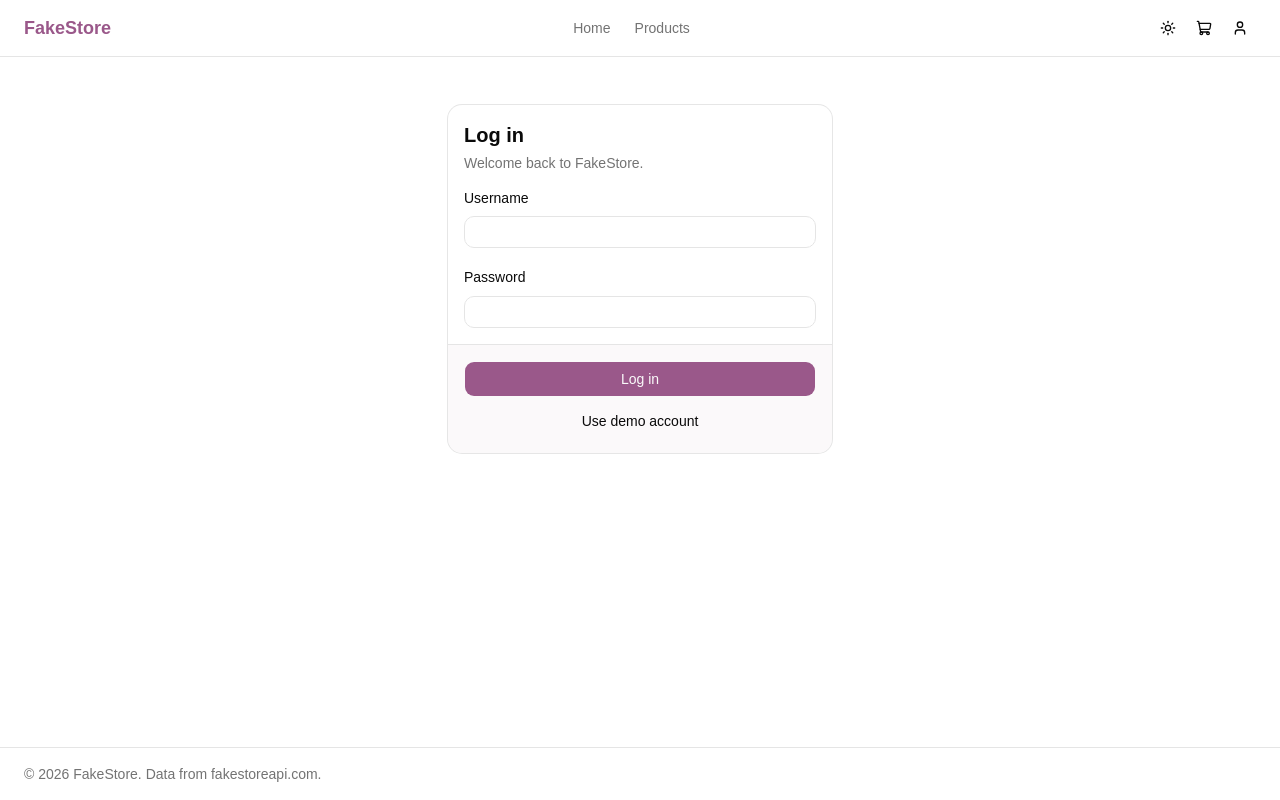
Test case: LoginPage › shows a message for wrong credentials and stays logged out
expect the heading "Log in" is shown: met, box [464,124,524,146]
Type "mor_2314" into the field labelled "Username" at (640, 232), box [464,216,816,248]
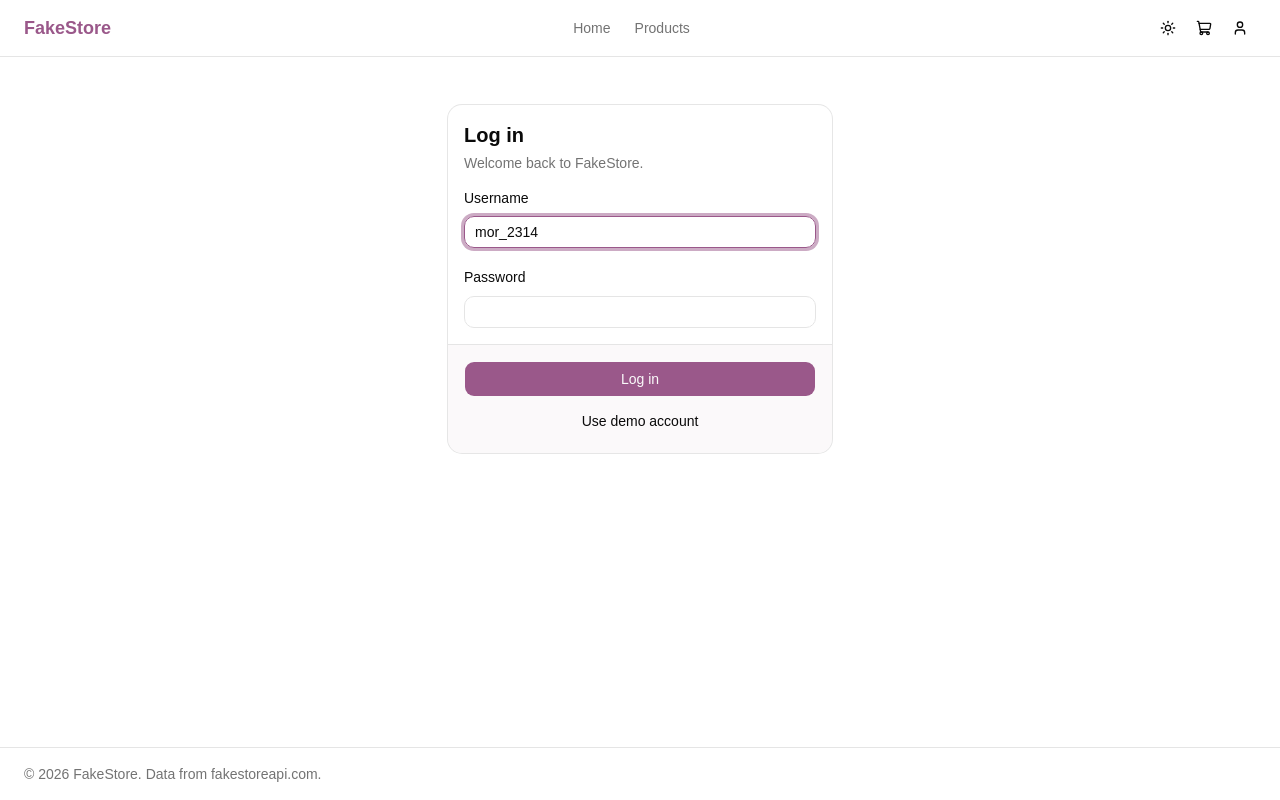
Type "wrong" into the password field labelled "Password" at (640, 312), box [464,296,816,328]
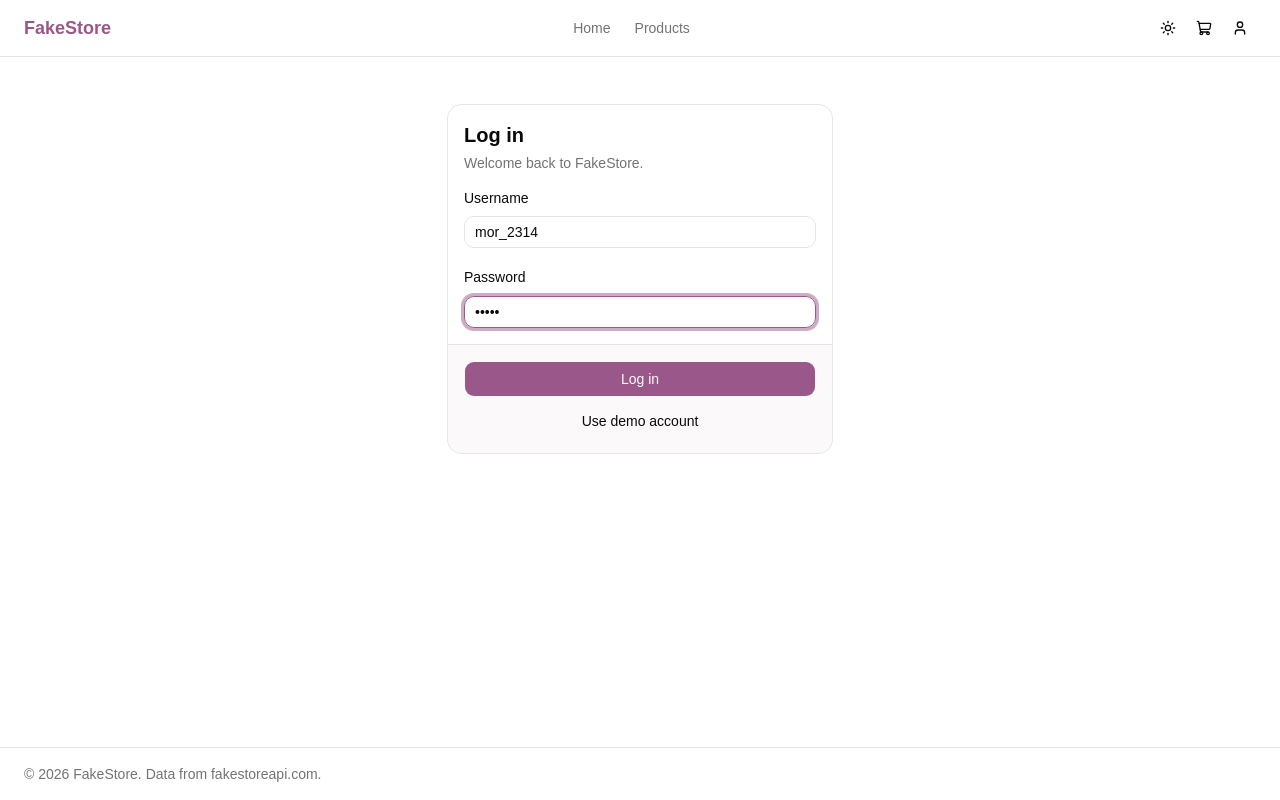
Click the button "Log in" at (640, 378), box [464,360,816,396]
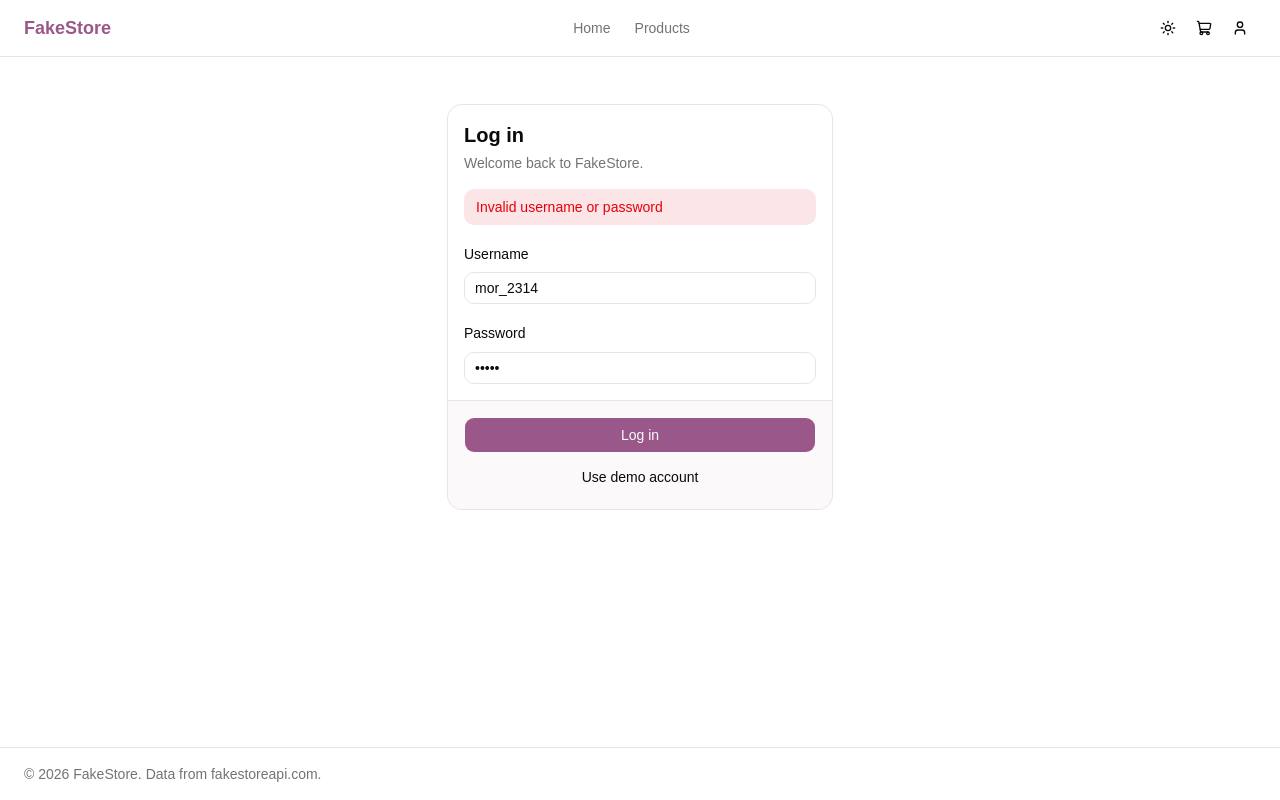
expect the message reads "Invalid username or password": met, box [476,199,663,215]
